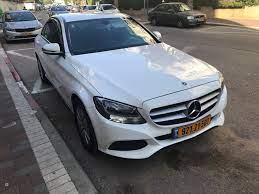licence: (170, 113, 212, 141)
